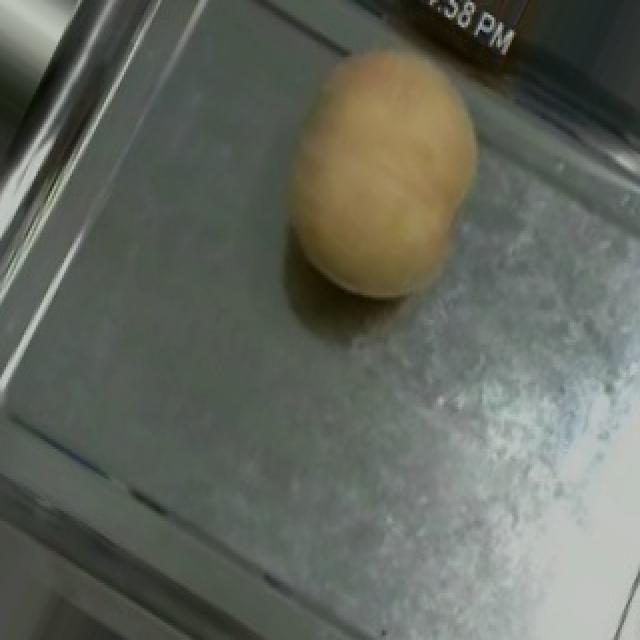Fruit: (236, 0, 526, 340)
